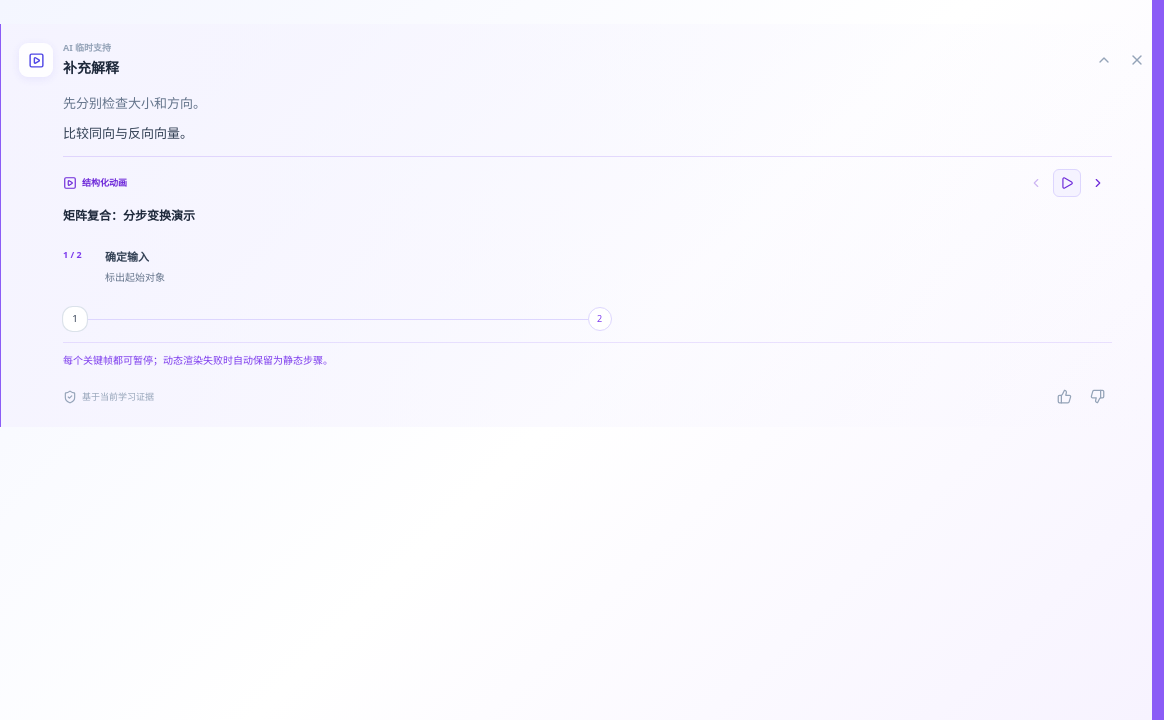
Test: AdaptiveLearningBlock › 正式 AnimationSpec 在正文原位提供可播放关键帧
The width and height of the screenshot is (1164, 720).
expect the element with class "structured-animation" is shown: met, box [63,156,1112,344]
expect the element with class "structured-animation" shows "矩阵复合：分步变换演示": met, box [63,207,195,224]
Click the button "2" at {"x": 600, "y": 320}, box [588,308,612,332]
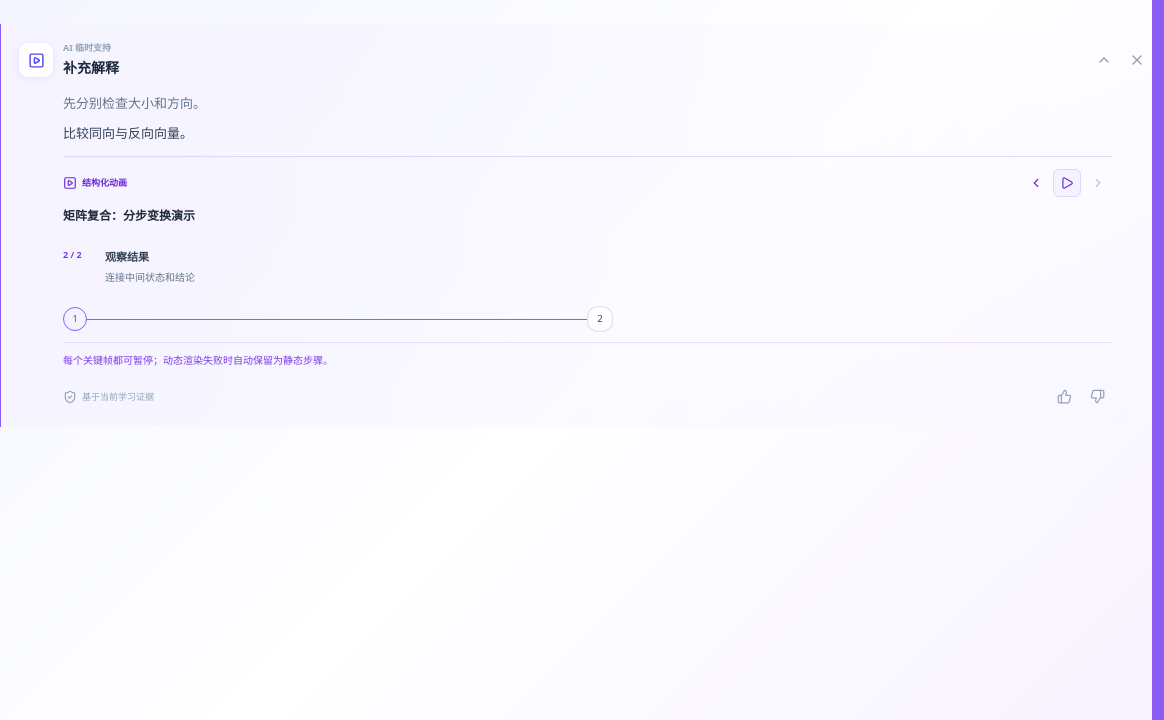
expect the button named "下一步" is disabled: met, box [1084,169,1112,197]
expect the element with class "structured-animation__frame" shows "观察结果": met, box [105,249,149,264]
Click the button named "上一步" at {"x": 1036, "y": 183}, box [1022,169,1050,197]
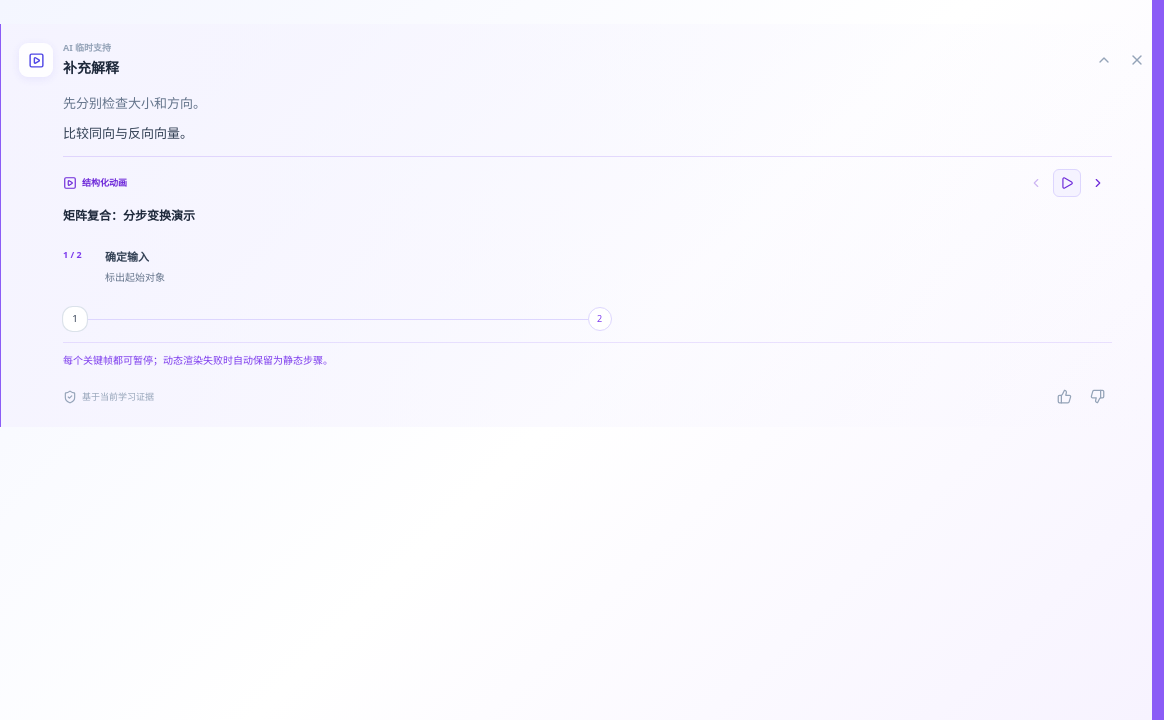
expect the text with class "adaptive-block__fallback" shows "关键帧": met, box [63,354,333,368]
expect the element with class "structured-animation__frame" shows "确定输入": met, box [105,249,149,264]
